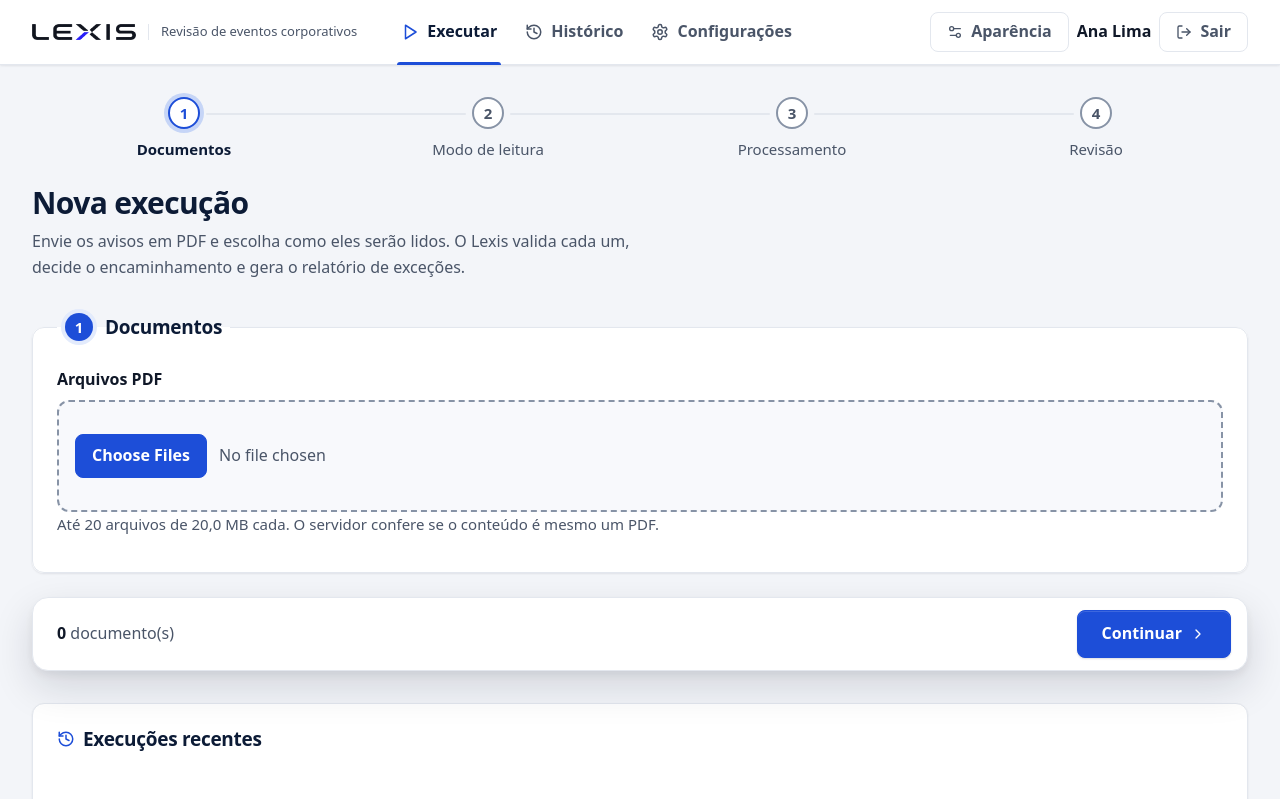
Test: login (servidor com banco) › sair encerra a sessão no servidor e volta para o login
Check: the text "Ana Lima" is shown, box left=1077, top=19, right=1151, bottom=45
Click the button "Sair" at (1204, 32), box left=1159, top=12, right=1248, bottom=52
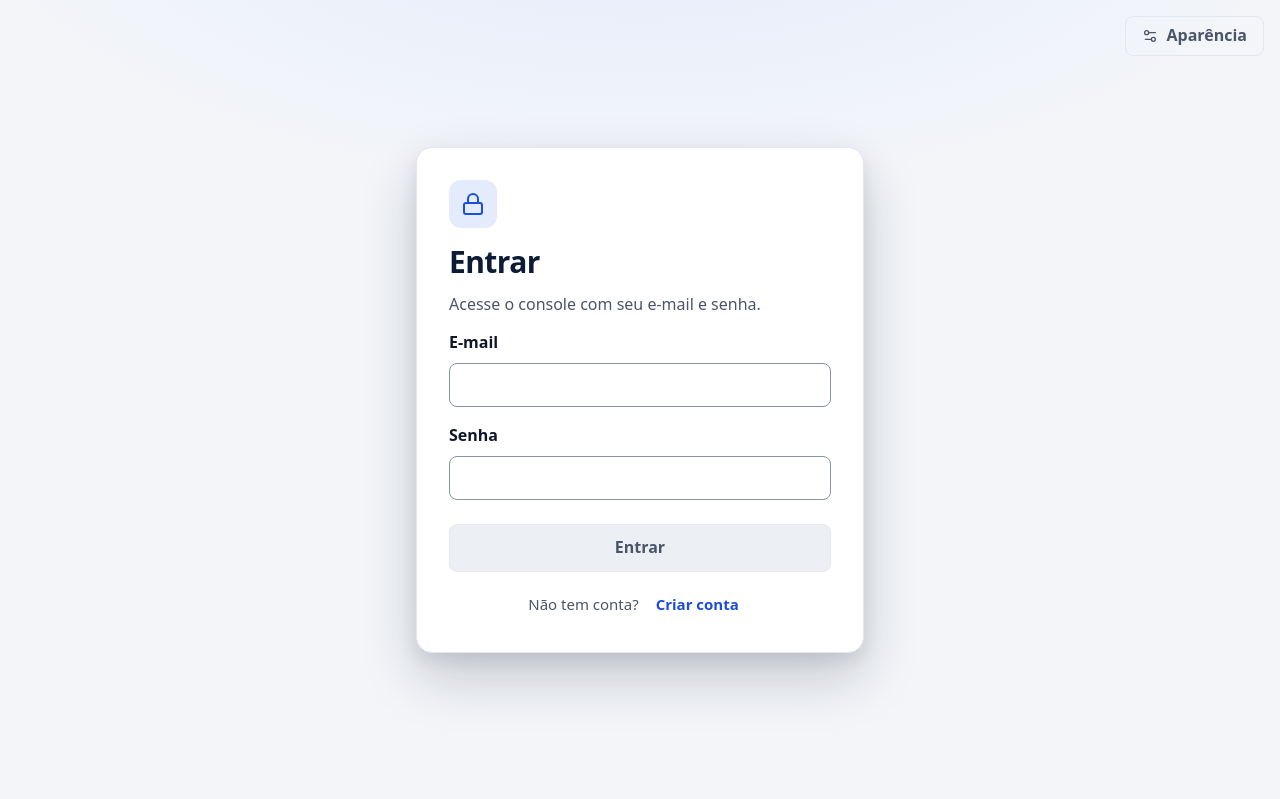
Check: the heading "Entrar" is shown, box left=449, top=241, right=540, bottom=282
